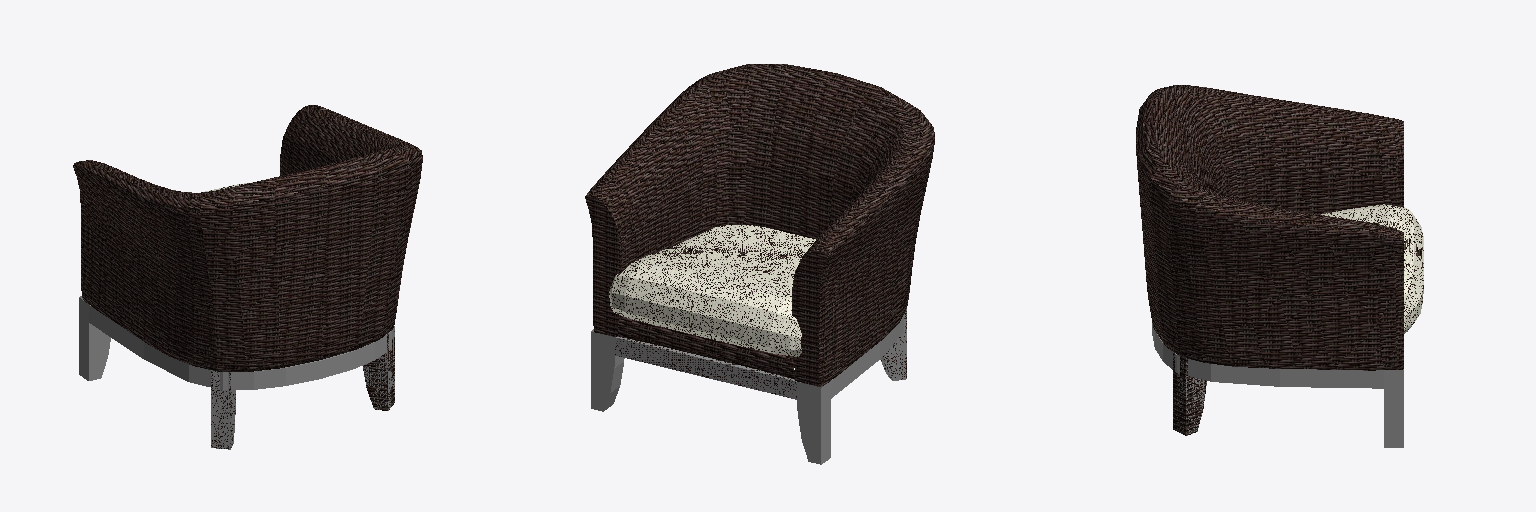
3 views of the same model, side by side, from view 1: azimuth 30°, elevation 25°; view 2: azimuth 150°, elevation 25°; view 3: azimuth 270°, elevation 25° (orthographic).
Visible parts, largest first — view 1: mesh1_mesh1-geometry, mesh8_mesh8-geometry, mesh4_mesh4-geometry, mesh6_mesh6-geometry, mesh7_mesh7-geometry; view 2: mesh1_mesh1-geometry, mesh3_mesh3-geometry, mesh9_mesh9-geometry, mesh2_mesh2-geometry, mesh4_mesh4-geometry, mesh5_mesh5-geometry, mesh8_mesh8-geometry, mesh6_mesh6-geometry; view 3: mesh1_mesh1-geometry, mesh8_mesh8-geometry, mesh3_mesh3-geometry, mesh7_mesh7-geometry, mesh5_mesh5-geometry.
Boxes of the visible parts, box(x1,y1,x2,y2) form: mesh1_mesh1-geometry: box(73, 105, 422, 371); mesh8_mesh8-geometry: box(89, 305, 391, 390); mesh4_mesh4-geometry: box(79, 296, 110, 380); mesh6_mesh6-geometry: box(211, 370, 235, 449); mesh7_mesh7-geometry: box(363, 326, 394, 410); mesh1_mesh1-geometry: box(585, 64, 934, 386); mesh3_mesh3-geometry: box(609, 225, 815, 356); mesh9_mesh9-geometry: box(615, 337, 796, 399); mesh2_mesh2-geometry: box(618, 316, 794, 379); mesh4_mesh4-geometry: box(797, 381, 830, 464); mesh5_mesh5-geometry: box(591, 329, 624, 411); mesh8_mesh8-geometry: box(831, 315, 903, 398); mesh6_mesh6-geometry: box(880, 309, 906, 380); mesh1_mesh1-geometry: box(1136, 85, 1403, 370); mesh8_mesh8-geometry: box(1152, 323, 1383, 388); mesh3_mesh3-geometry: box(1320, 204, 1423, 333); mesh7_mesh7-geometry: box(1173, 352, 1206, 435); mesh5_mesh5-geometry: box(1384, 369, 1403, 447).
Bounding box in the file's own units: 0.572 × 0.5896 × 0.5703.
Materials: 3 (2 with a texture image).